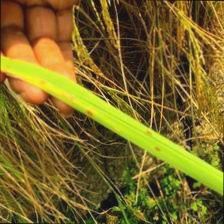Bacterial_Leaf_Blight: (38, 76, 50, 86), (145, 128, 153, 136), (154, 145, 164, 151), (85, 111, 95, 116)
